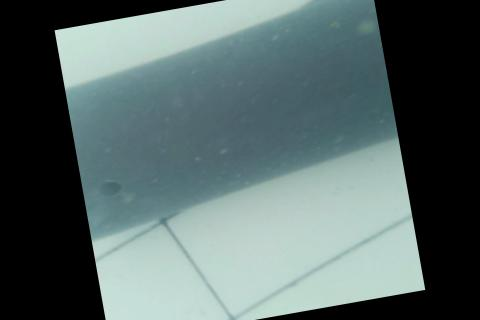kebocoran: (95, 176, 126, 199)
